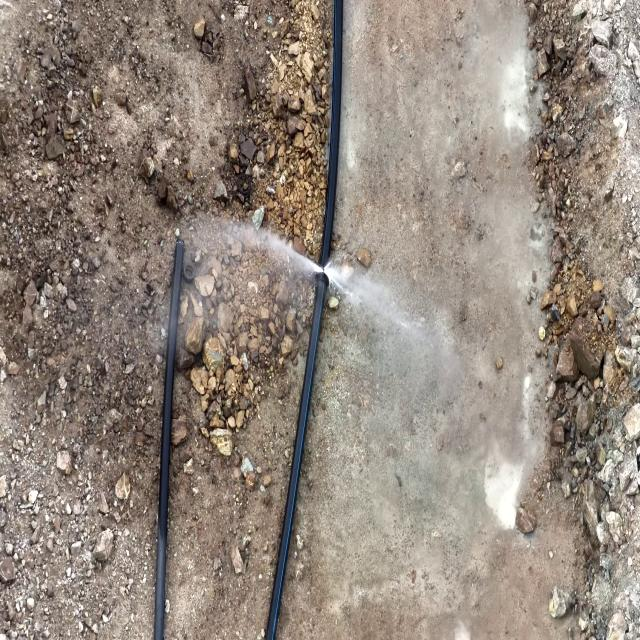leak: (197, 213, 392, 311)
